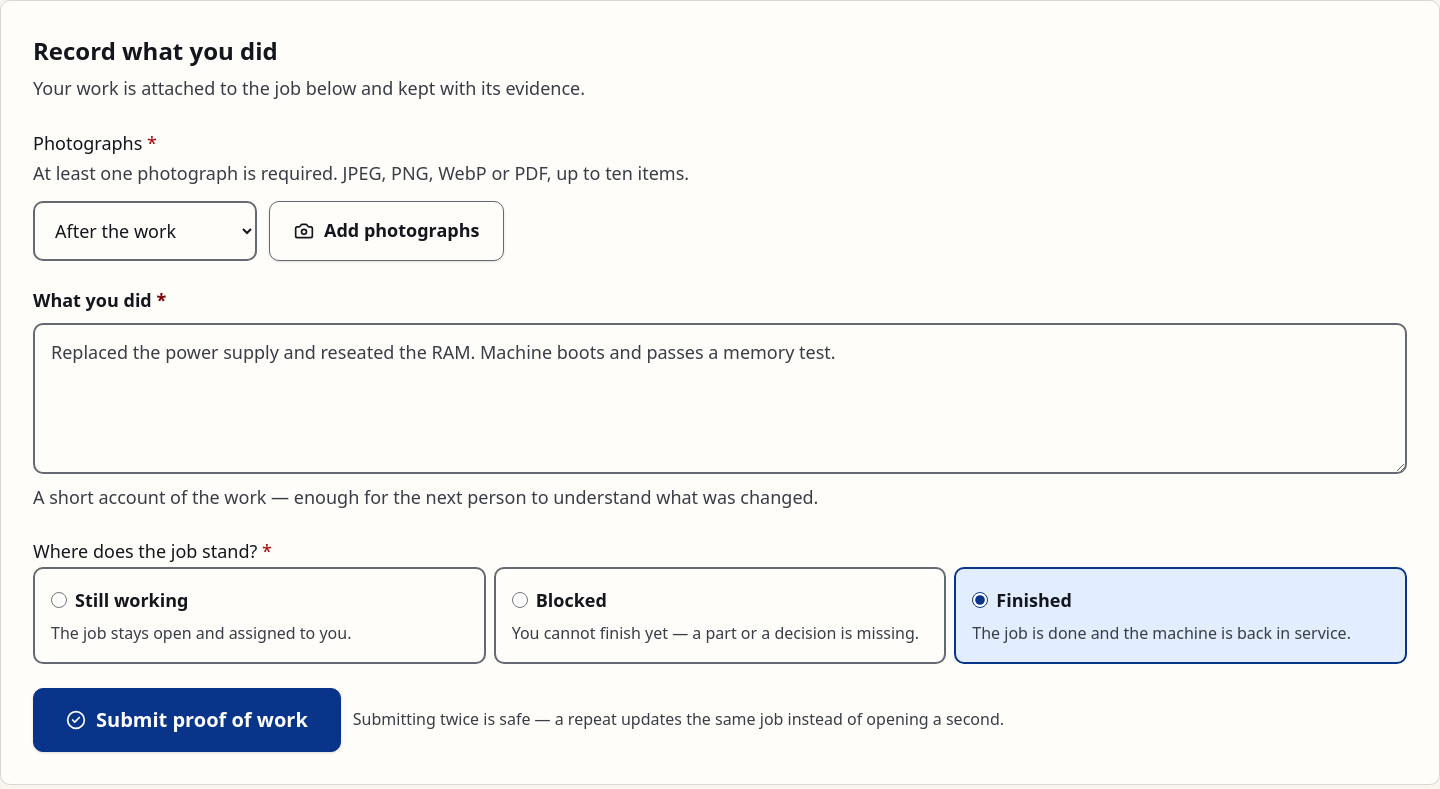
Test: what it does with the servers answers › shows a blocked completion in the words the lifecycle used
In the text box labelled "What you did *": [720, 399] box [33, 323, 1407, 474], type "Swapped the PSU."
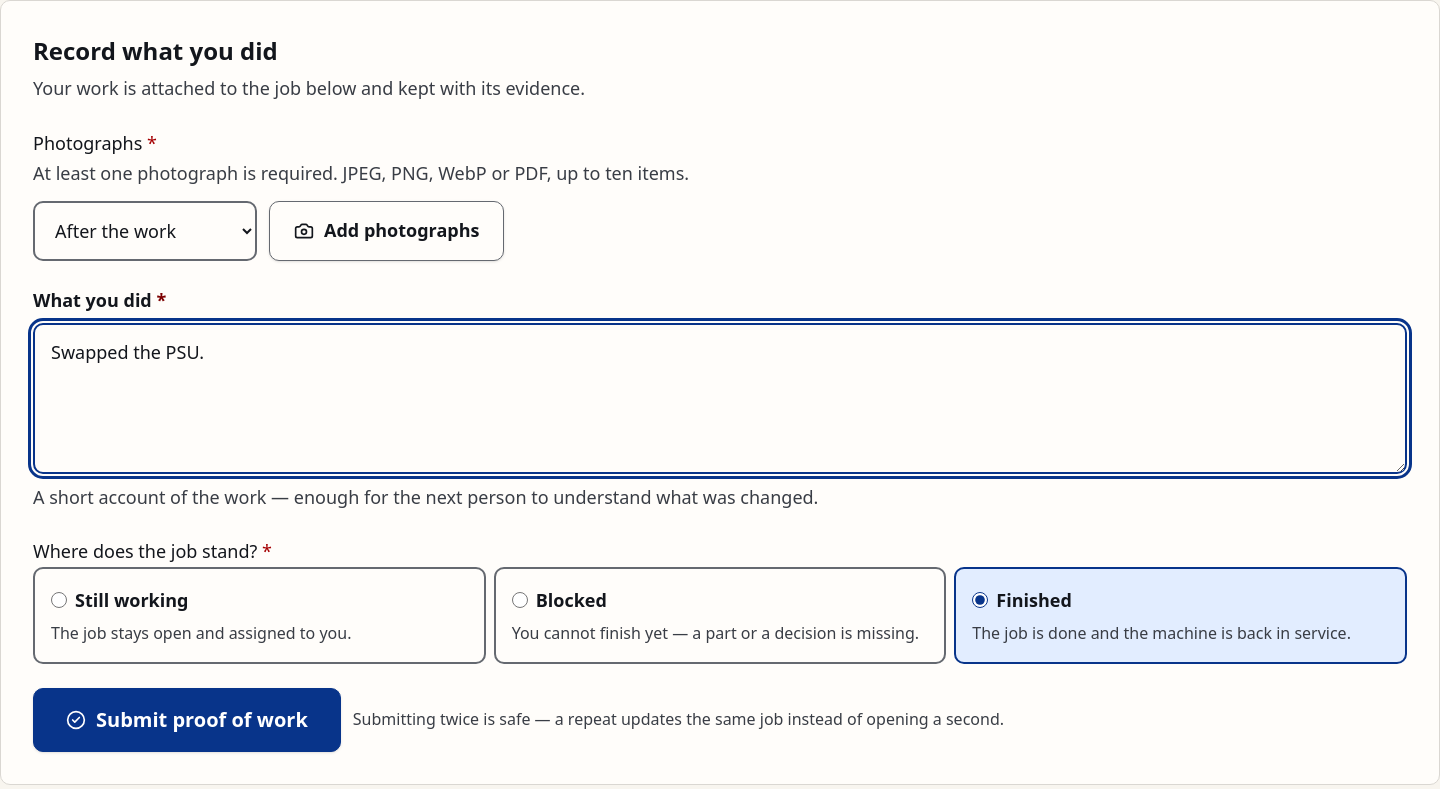
Click the button "Submit proof of work": [187, 720] box [33, 688, 341, 752]
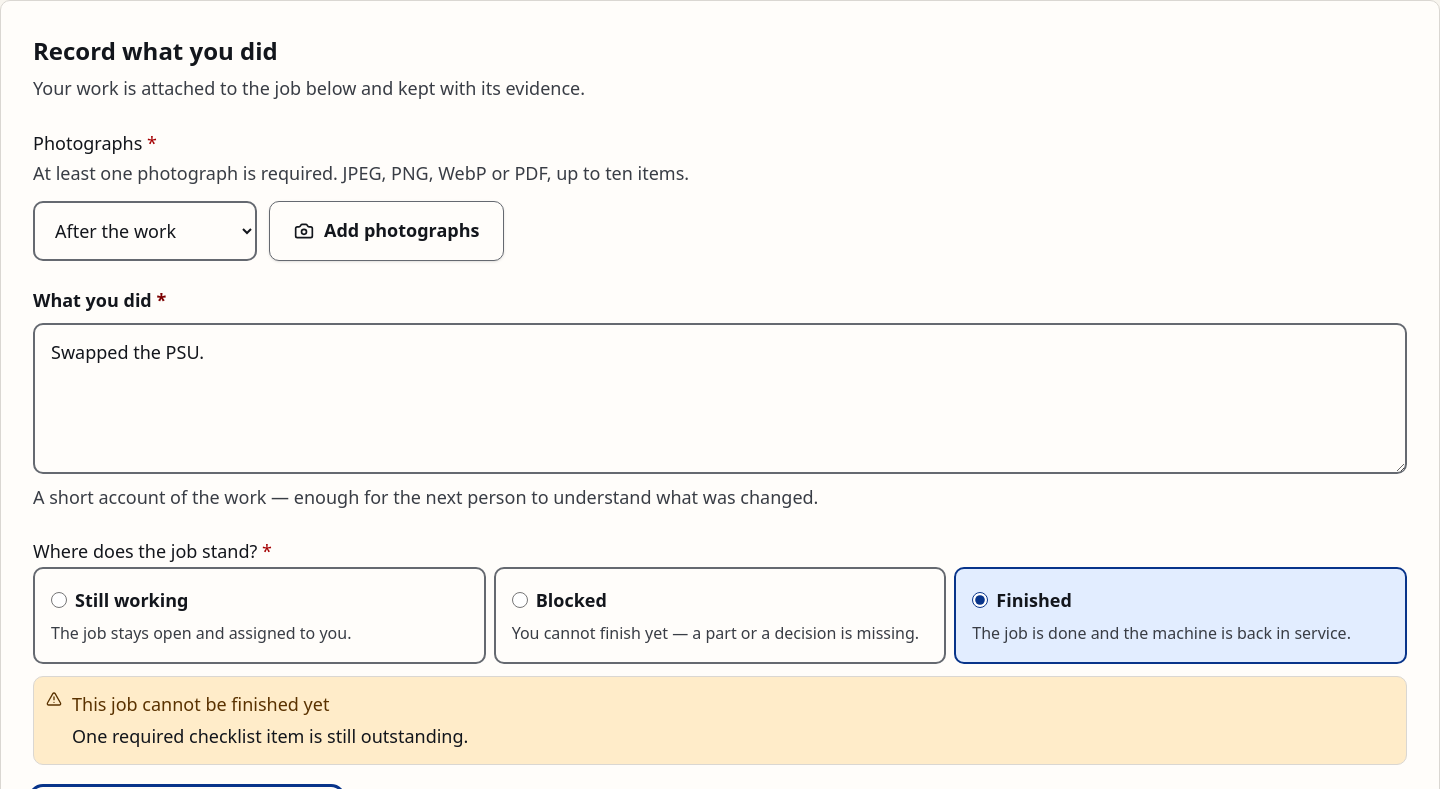
Result: the text "One required checklist item is still outstanding." is shown at [72, 721, 468, 752]
